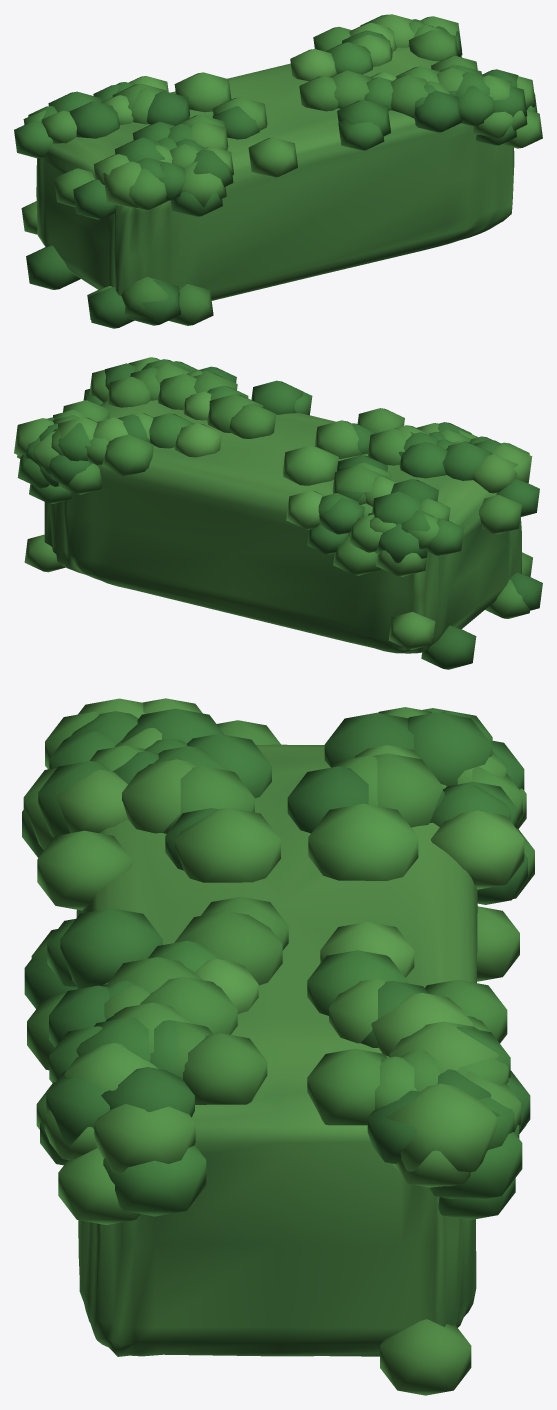
The model's file is furn_dp_hedge_long.glb.
3 renders of one model, top to bottom at view 1: azimuth 30°, elevation 25°; view 2: azimuth 150°, elevation 25°; view 3: azimuth 270°, elevation 25°, orthographic. The views are drawn at different scales.
Parts seen in each view (by area): view 1: furn_dp_hedge_long_main; view 2: furn_dp_hedge_long_main; view 3: furn_dp_hedge_long_main.
Boxes of the visible parts, x1,y1,x2,y2 form: furn_dp_hedge_long_main: [14, 14, 542, 328]; furn_dp_hedge_long_main: [14, 357, 542, 669]; furn_dp_hedge_long_main: [22, 698, 534, 1395].
Bounding box in the file's own units: 2.03 × 0.791 × 0.9909.
